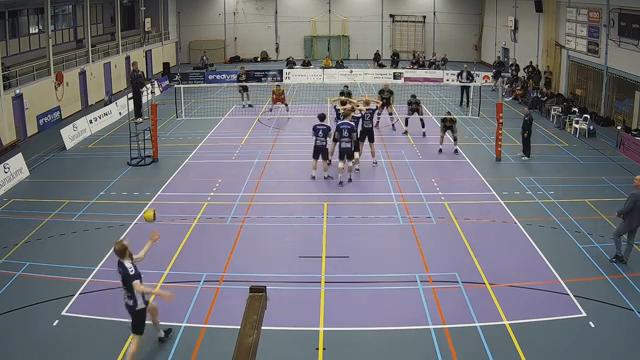Player: (330, 107, 356, 186), (358, 98, 379, 165), (311, 113, 332, 179), (403, 94, 425, 136), (375, 84, 395, 130), (349, 102, 362, 172), (438, 111, 458, 154), (237, 66, 252, 107), (269, 84, 288, 112), (330, 97, 348, 123), (339, 85, 353, 99)
Serve: (108, 231, 174, 359)
ball: (144, 209, 156, 223)
